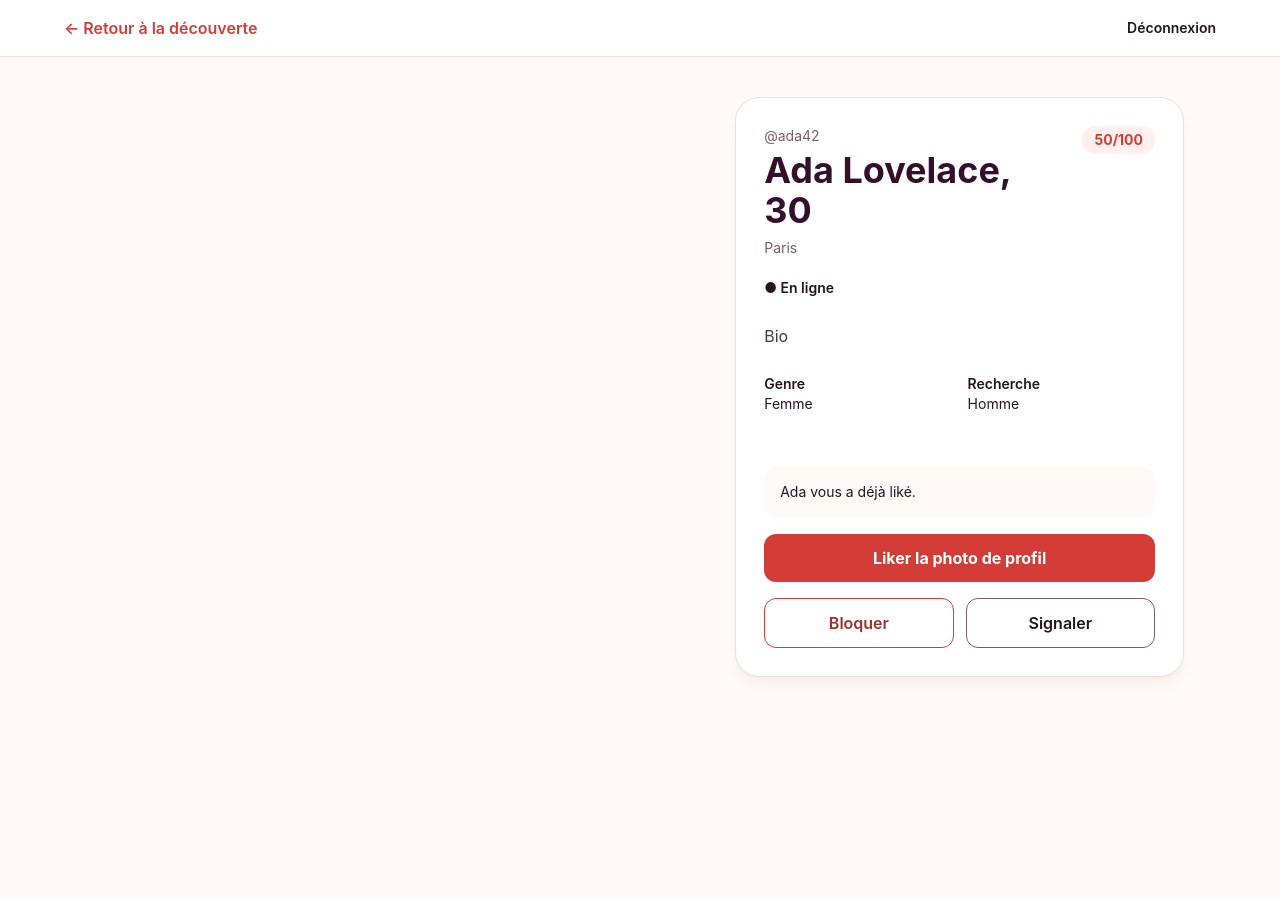
Test: authentication experience › likes a public profile and immediately displays the match state
Click the button "Liker la photo de profil": x=960, y=558 [764,534,1155,582]
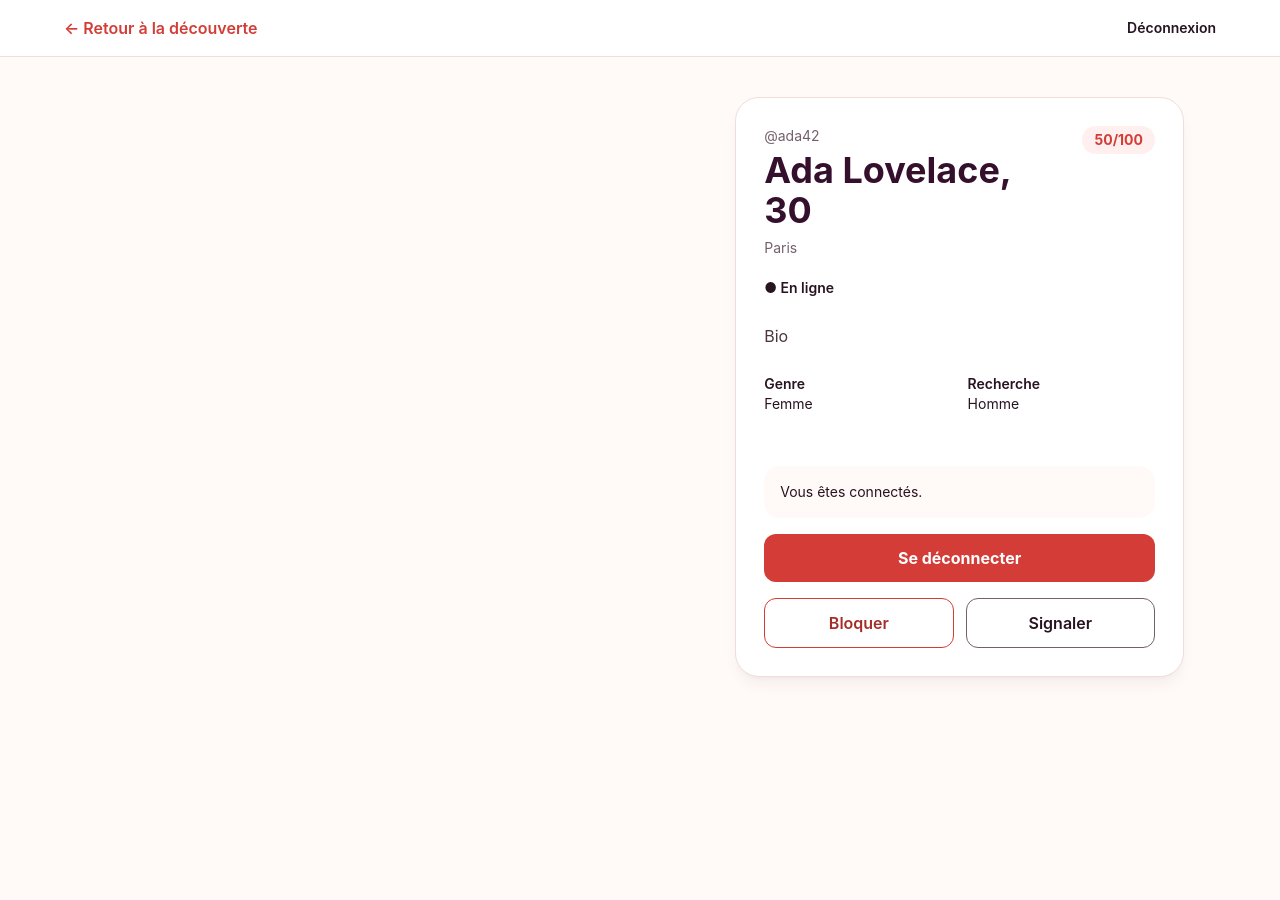
Expected: the button "Se déconnecter" is shown, [764,534,1155,582]
Expected: the text "Vous êtes connectés." is shown, [764,466,1155,518]
